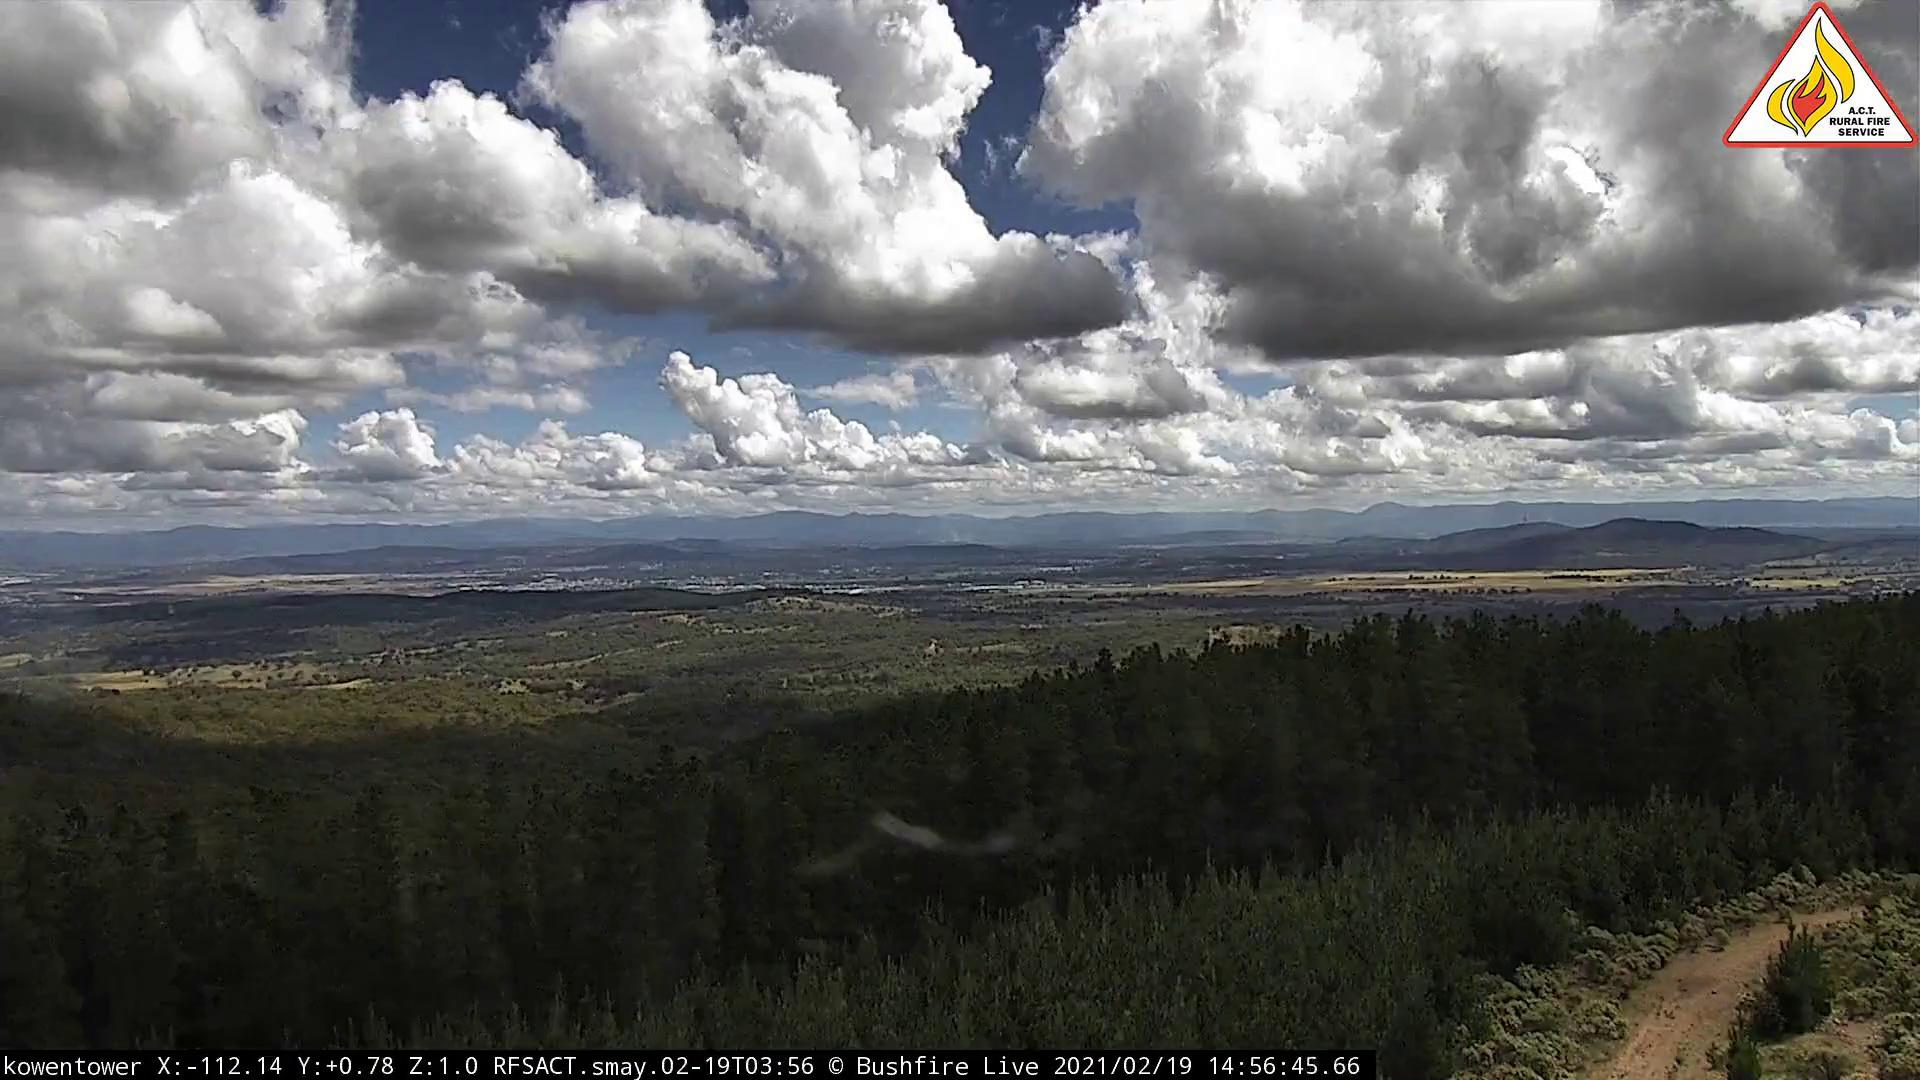Smoke: (930, 522, 990, 551)
